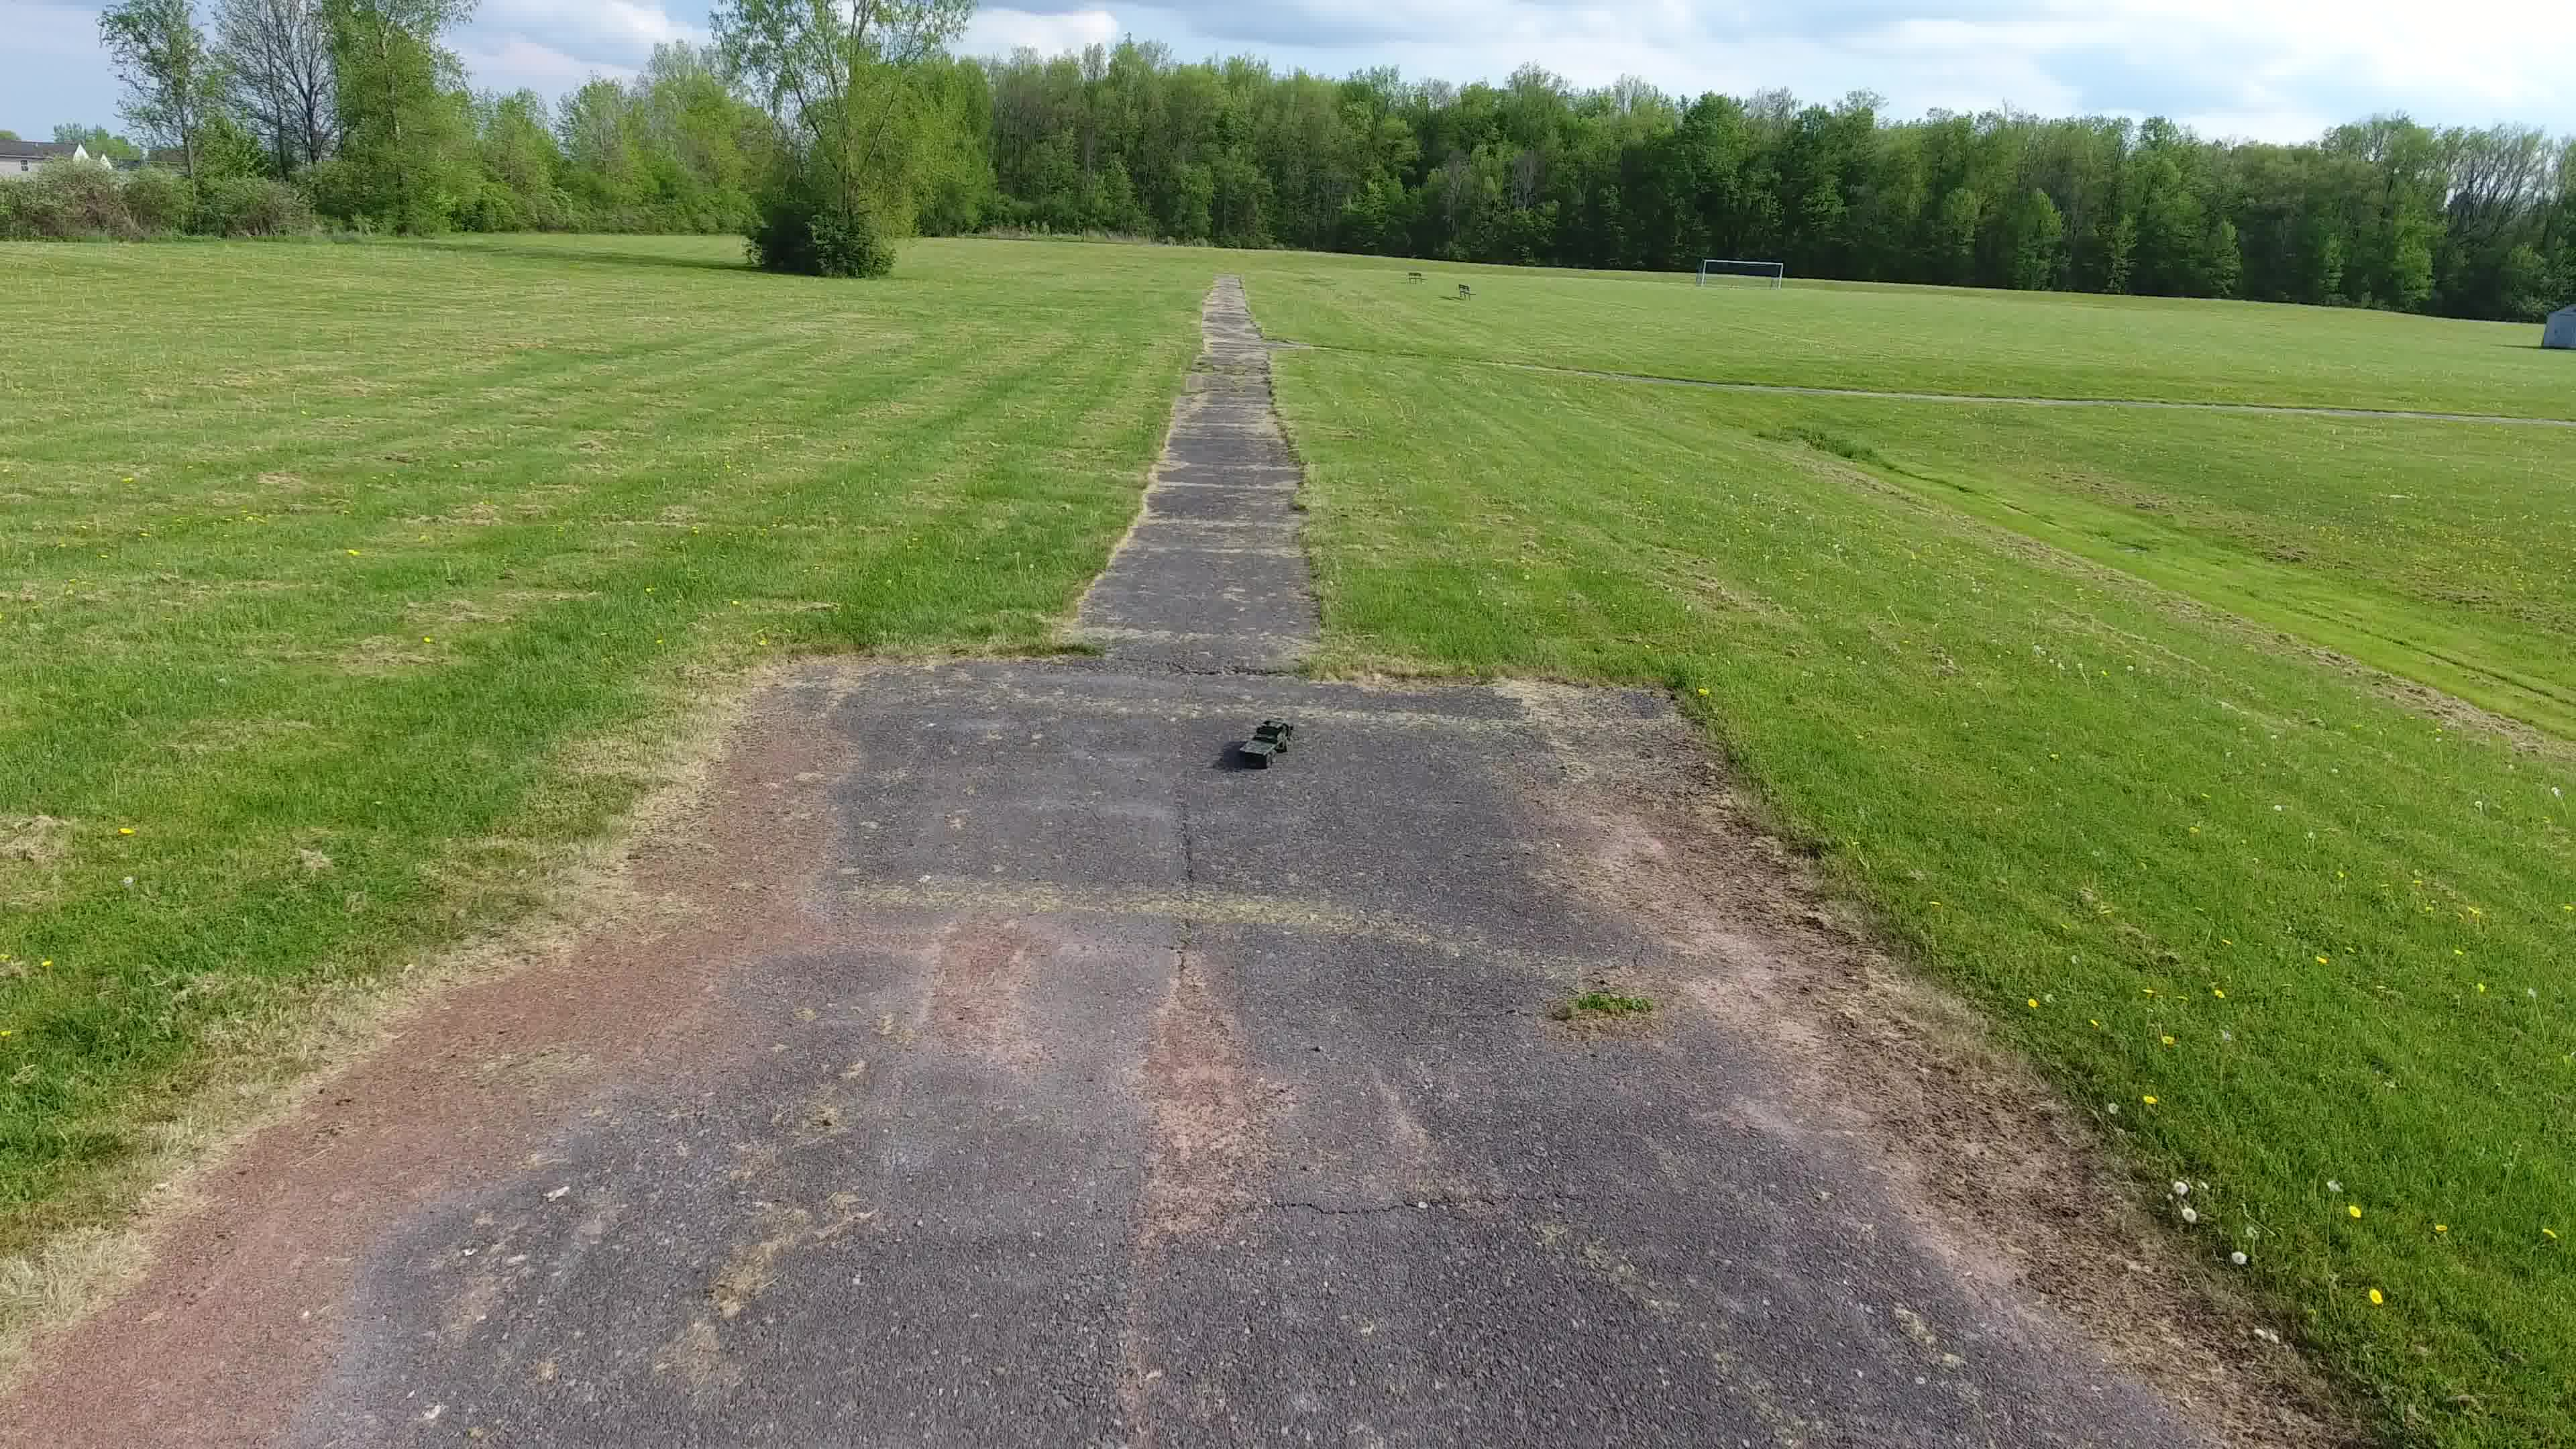transporter9_camo: (1237, 715, 1295, 770)
